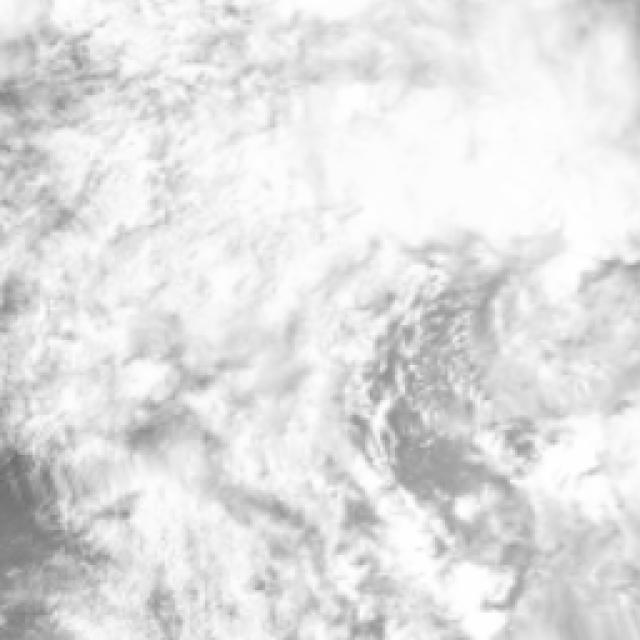CB: (350, 77, 619, 229)
